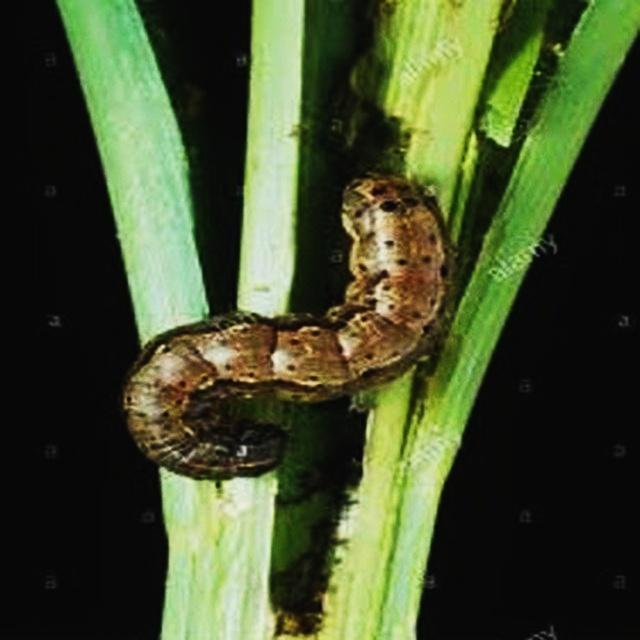Plaga: (124, 167, 454, 485)
